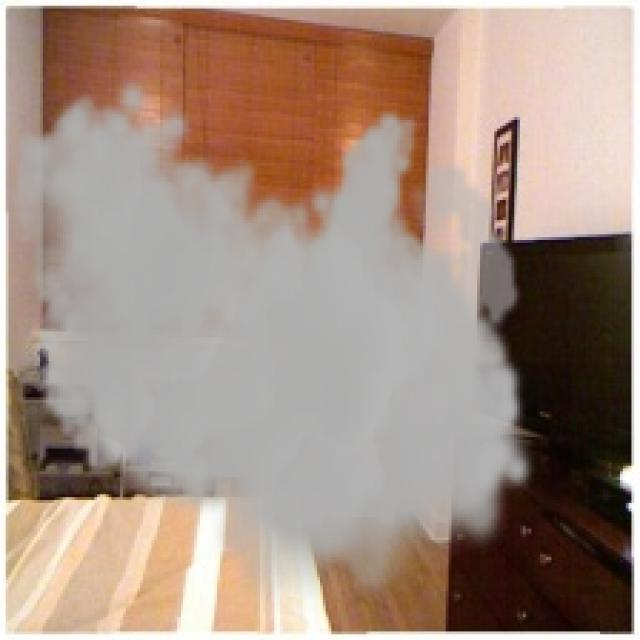Smoke: (9, 75, 538, 614)
